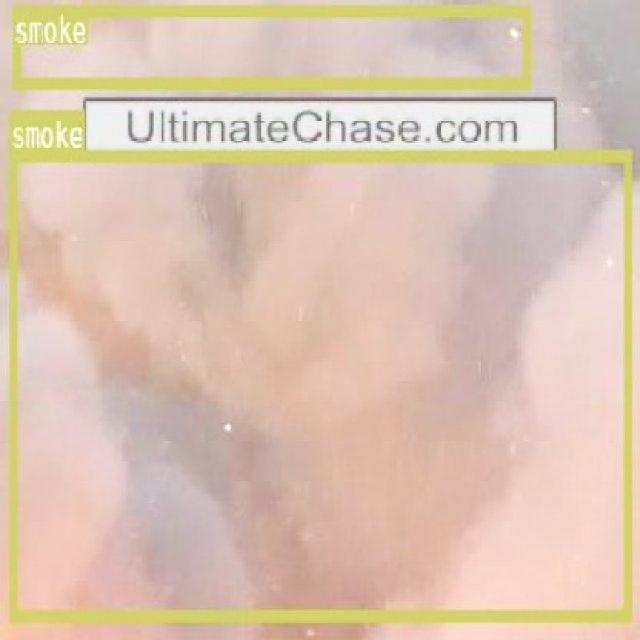smoke: (8, 148, 630, 620), (12, 3, 530, 86)
